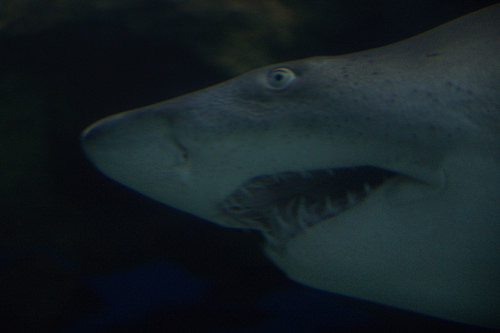shark: (58, 16, 492, 324)
